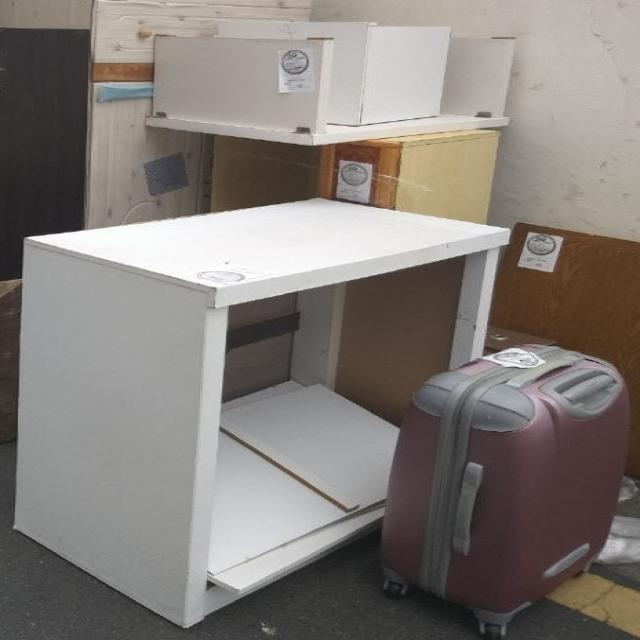Large Waste Items: (8, 196, 500, 625), (380, 345, 640, 632), (142, 16, 514, 146), (201, 133, 496, 228)
